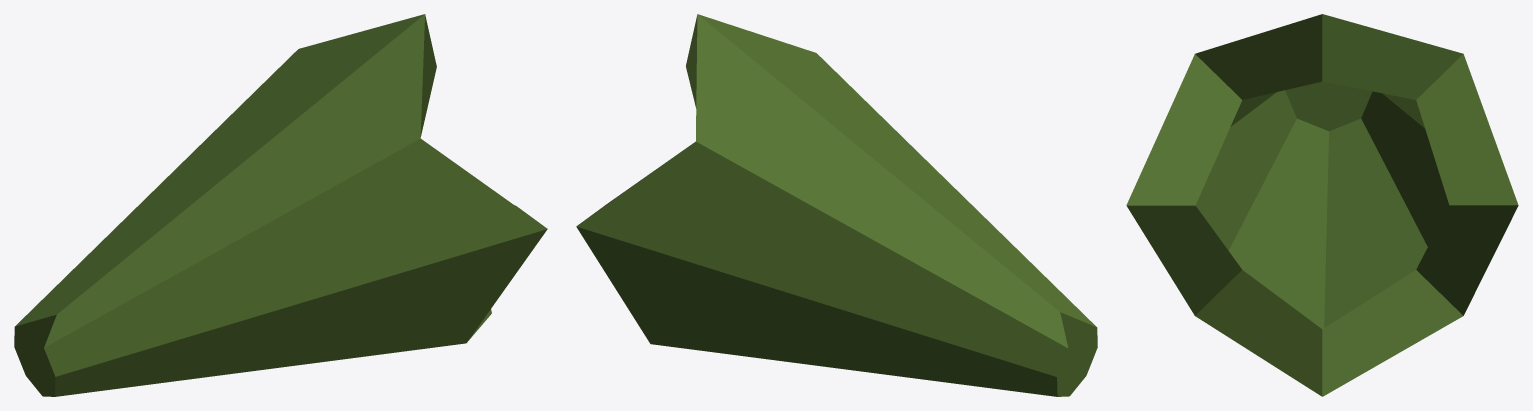
The model's file is leaves.glb.
The picture shows the model from 3 angles, left to right: view 1: azimuth 30°, elevation 25°; view 2: azimuth 150°, elevation 25°; view 3: azimuth 270°, elevation 25°; orthographic projection. The views are drawn at different scales.
Visible parts, largest first — view 1: Leaves; view 2: Leaves; view 3: Leaves.
Part boxes in pixels (x1,y1,x2,y2): Leaves: [14, 14, 547, 396]; Leaves: [576, 14, 1097, 396]; Leaves: [1126, 14, 1518, 396].
Bounding box in the file's own units: 1.33 × 0.873 × 0.8942.
